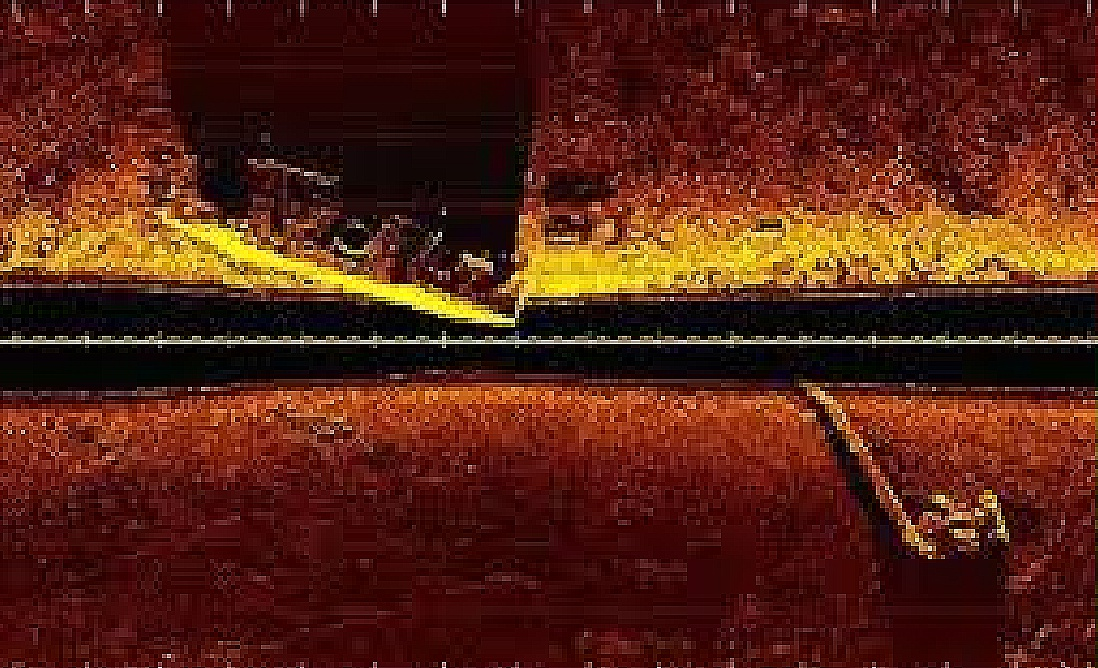ship: (137, 143, 526, 329)
